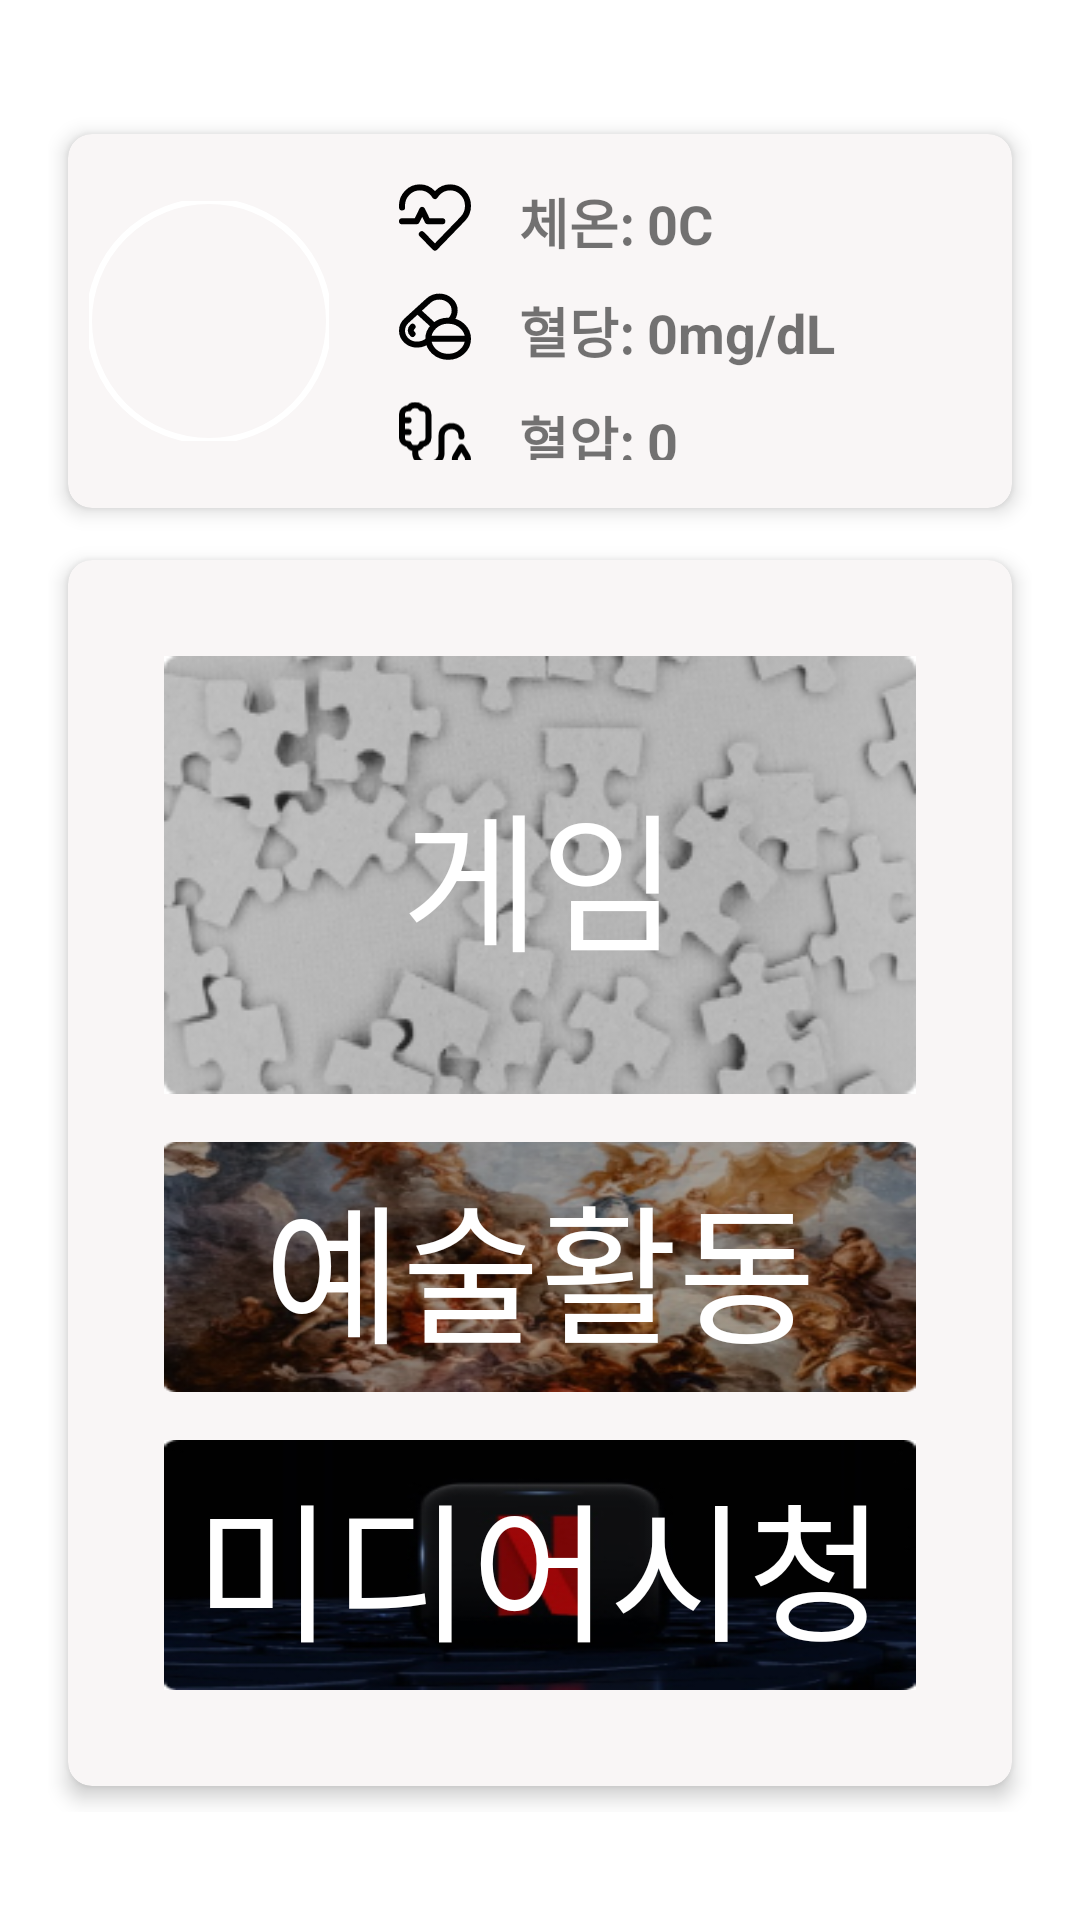

Named icons in this screenshot (1080×1920) and their bounding boxes, [x1=x1, y1=y1, x2=x2, y2=y2]:
heart: [x1=399, y1=184, x2=471, y2=251]
pills: [x1=399, y1=293, x2=471, y2=360]
